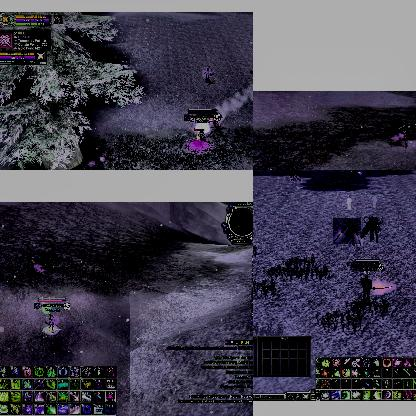caliana: (333, 218, 361, 244), (27, 253, 49, 277), (390, 123, 408, 147), (84, 148, 102, 170), (362, 216, 374, 243), (371, 216, 383, 242), (203, 66, 213, 82), (288, 170, 301, 180), (366, 170, 372, 175)
